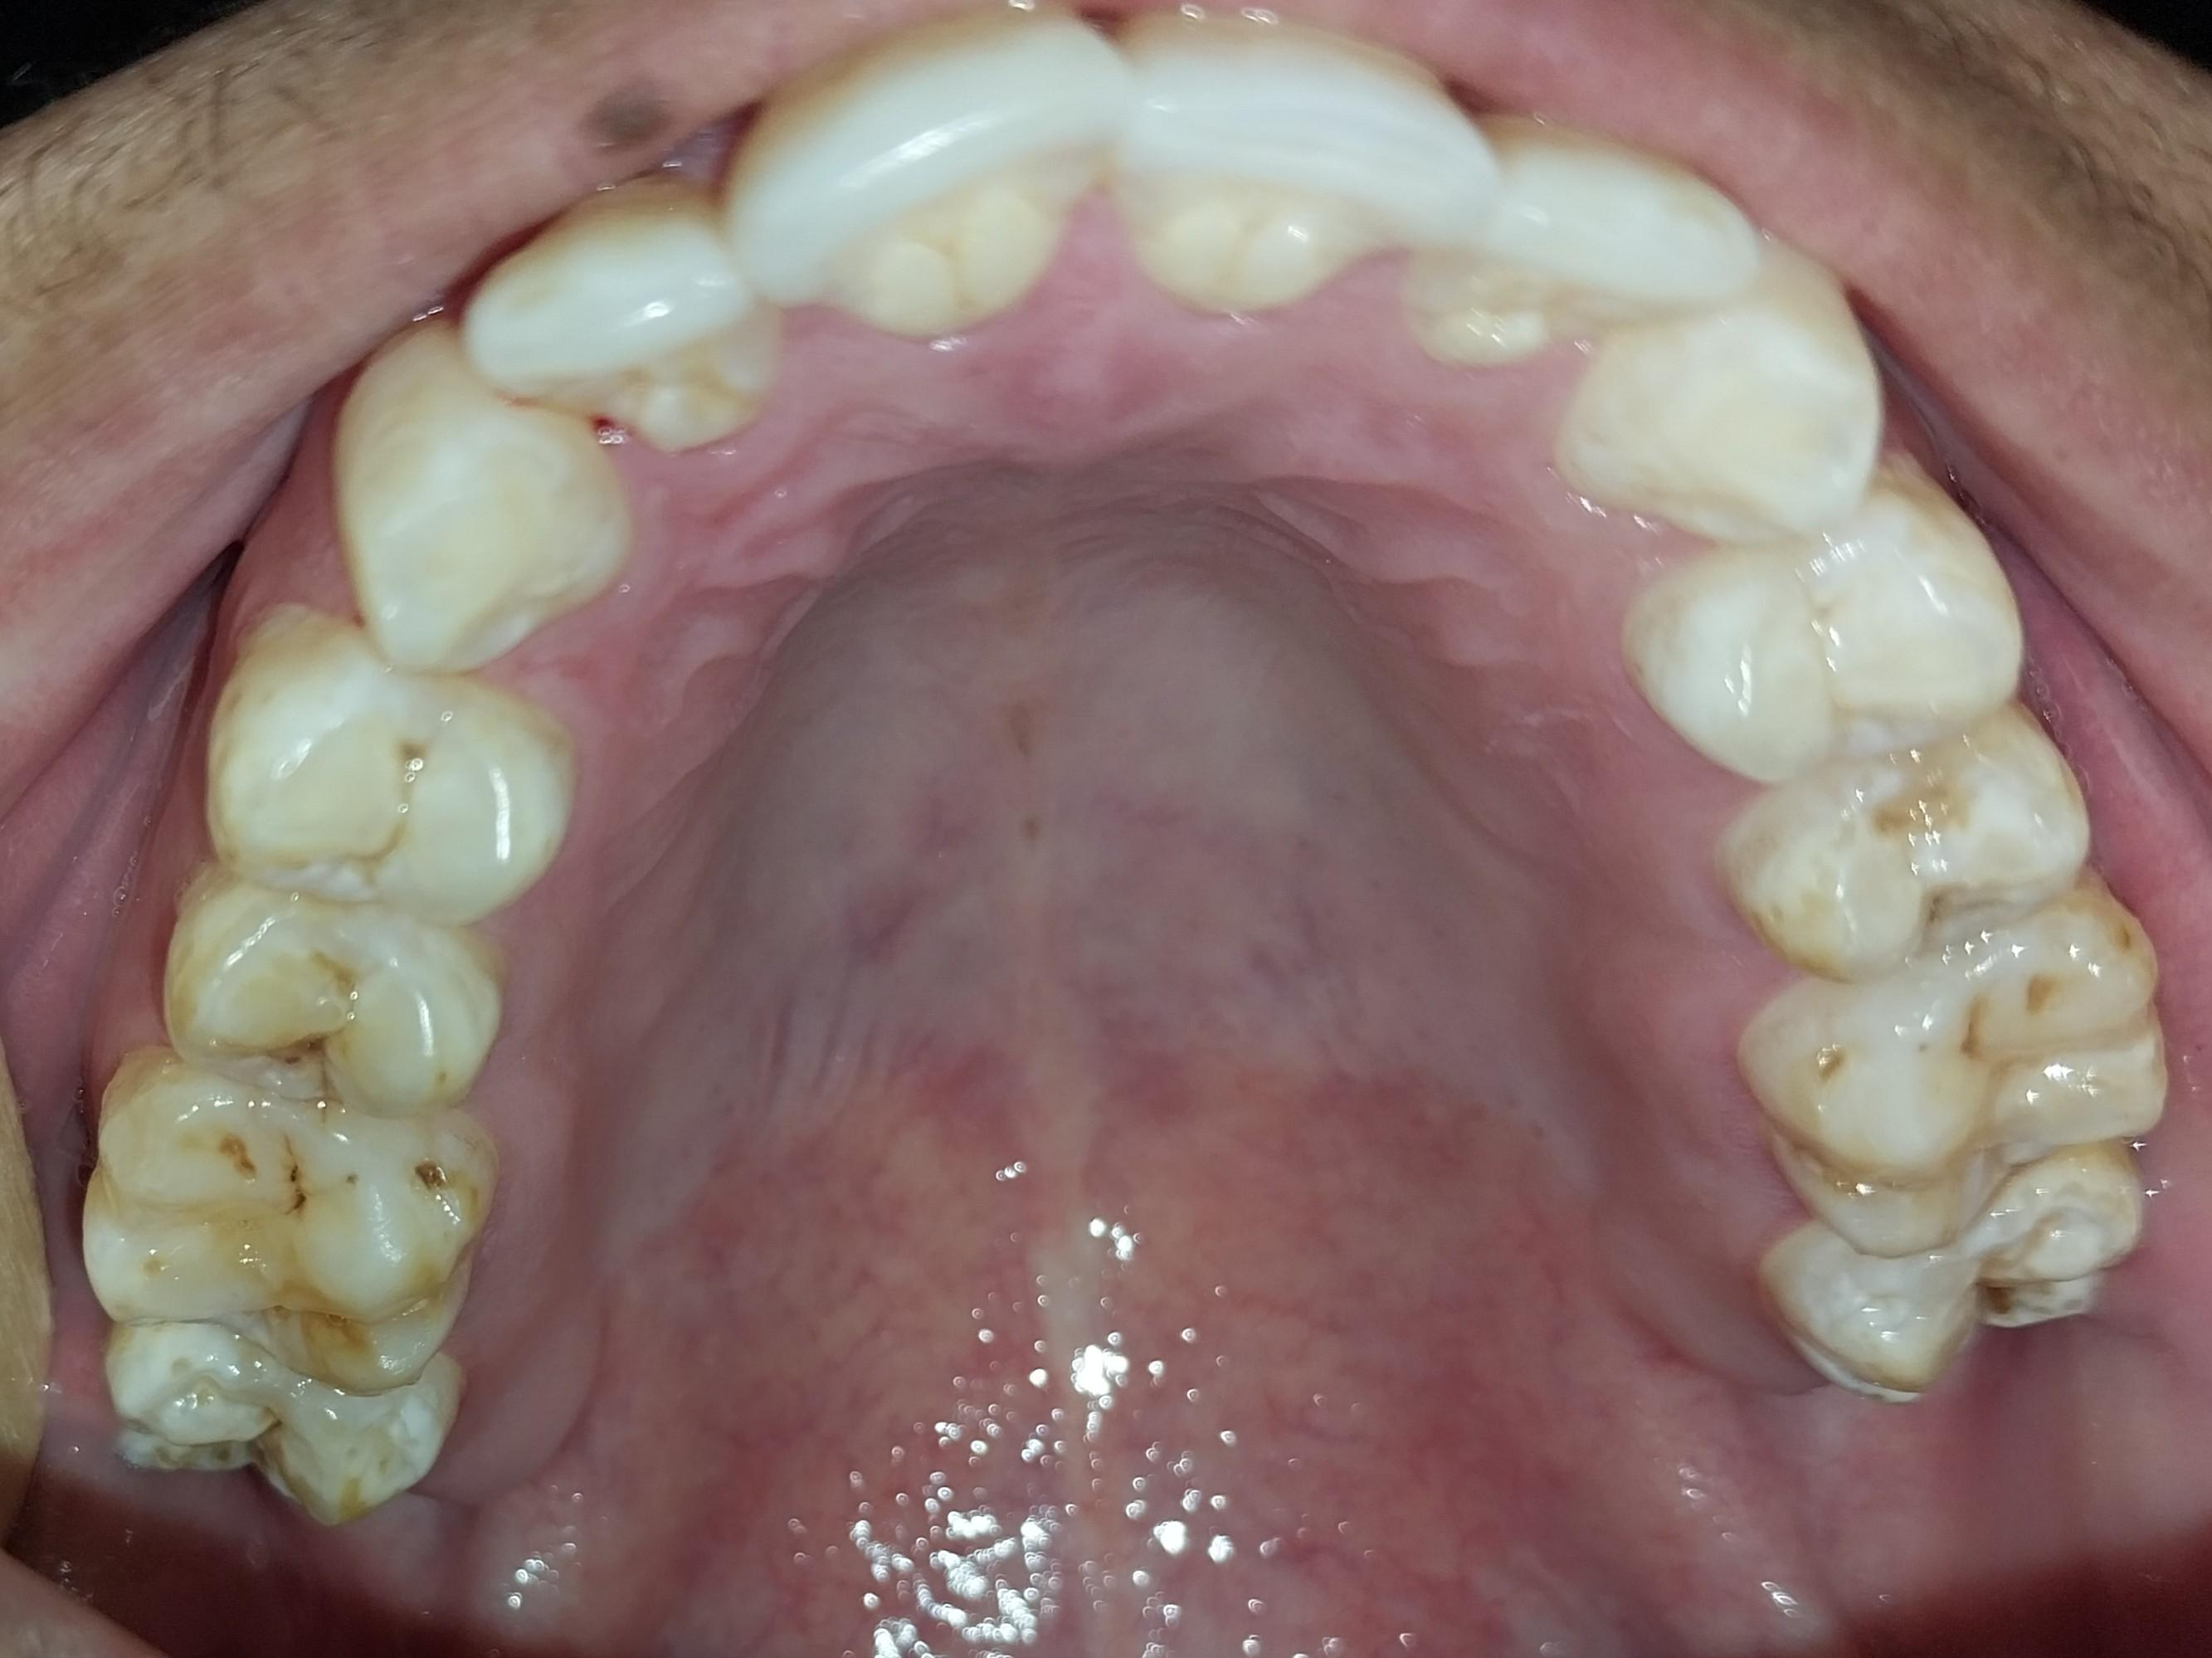D: (70, 1036, 480, 1397), (1711, 719, 2095, 982), (175, 862, 507, 1113)
